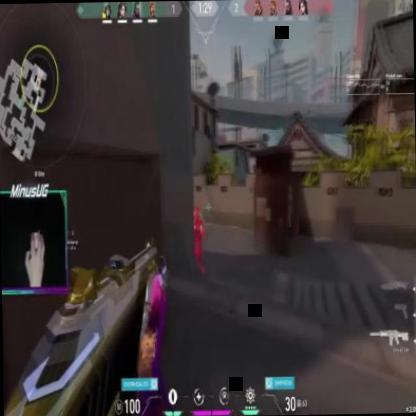enemy: (190, 204, 206, 274)
enemy_head: (194, 205, 200, 216)
